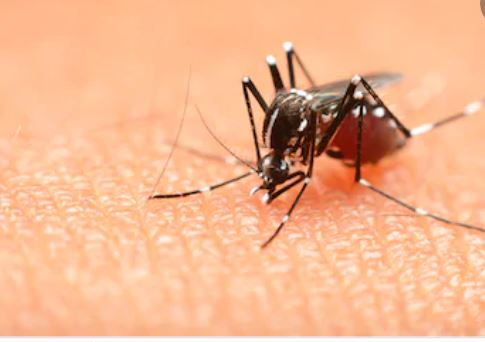dengue_mosquito: (206, 41, 454, 225)
